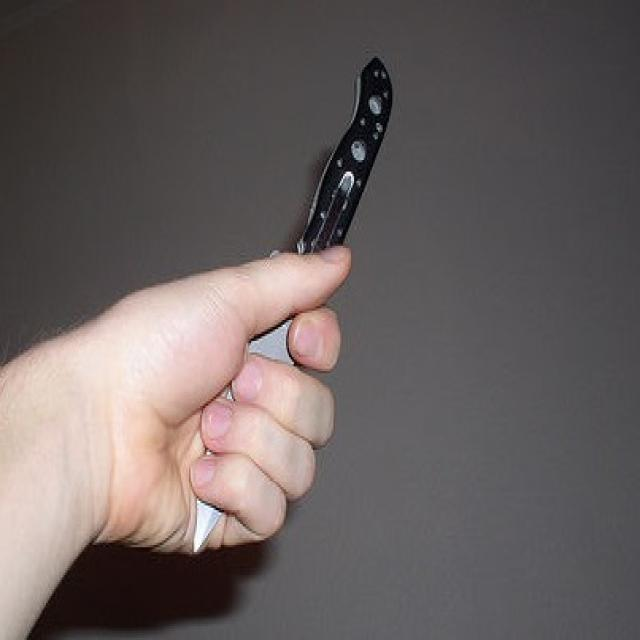knife: (191, 50, 400, 562)
